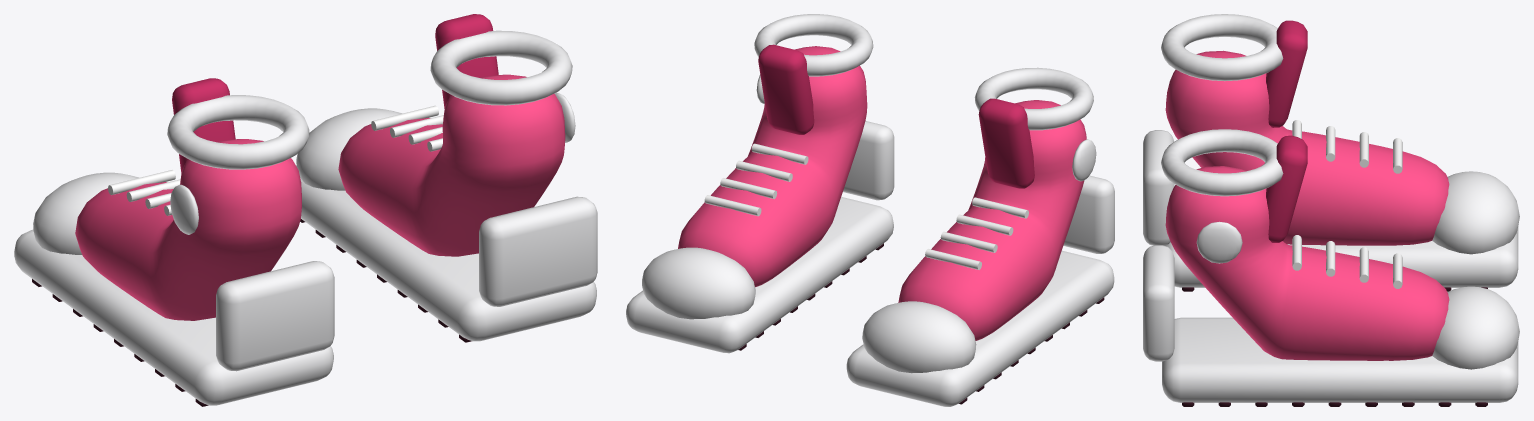
The model's file is boots.glb.
3 views of the same model, side by side, from view 1: azimuth 30°, elevation 25°; view 2: azimuth 150°, elevation 25°; view 3: azimuth 270°, elevation 25° (orthographic). The views are drawn at different scales.
Parts seen in each view (by area): view 1: BootL, BootR; view 2: BootL, BootR; view 3: BootR, BootL.
Boxes of the visible parts, left/top/right/bottom form: BootL: left=14, top=78, right=334, bottom=406; BootR: left=296, top=14, right=597, bottom=342; BootL: left=846, top=67, right=1114, bottom=406; BootR: left=626, top=14, right=894, bottom=353; BootR: left=1143, top=129, right=1519, bottom=406; BootL: left=1143, top=14, right=1519, bottom=291.
Size of the model in its own units: 0.395 by 0.2512 by 0.3595.
